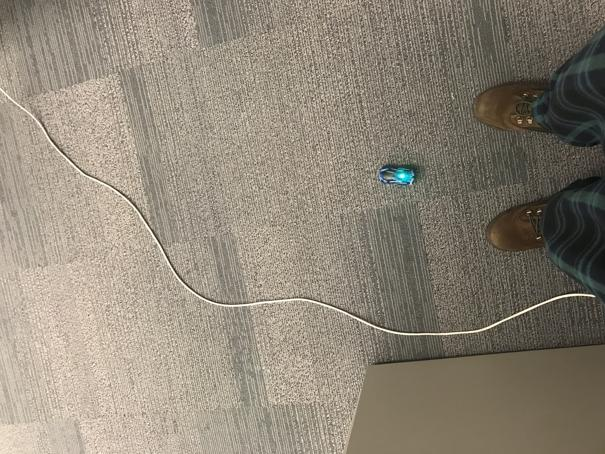Shock: (376, 164, 419, 188)
